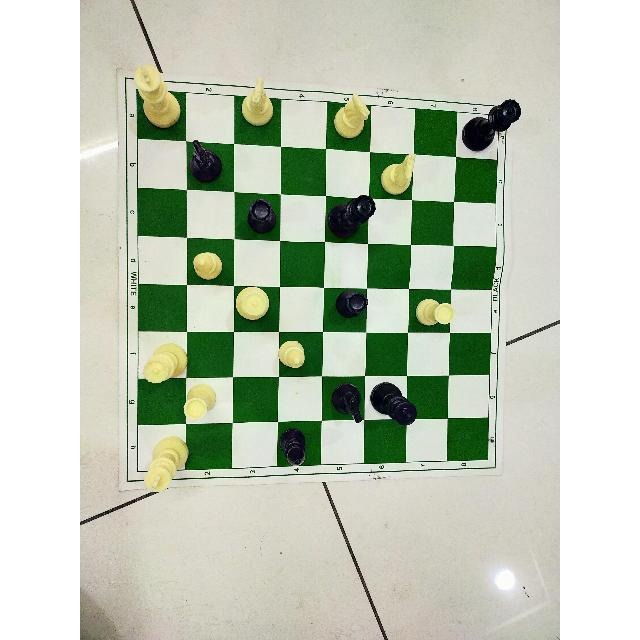black-bishop: (276, 422, 314, 470)
black-king: (366, 378, 422, 428)
black-knight: (187, 134, 230, 188), (327, 377, 366, 427)
black-queen: (458, 98, 526, 158), (324, 188, 379, 235)
black-rook: (246, 195, 278, 237), (330, 288, 373, 319)
white-bishop: (273, 336, 310, 375), (191, 248, 223, 281)
white-king: (132, 60, 184, 131), (140, 433, 190, 495)
white-knight: (234, 72, 274, 132), (326, 91, 372, 140), (377, 149, 419, 194)
white-queen: (144, 343, 188, 385), (236, 281, 272, 320)
white-rook: (414, 293, 459, 327), (182, 381, 219, 421)
